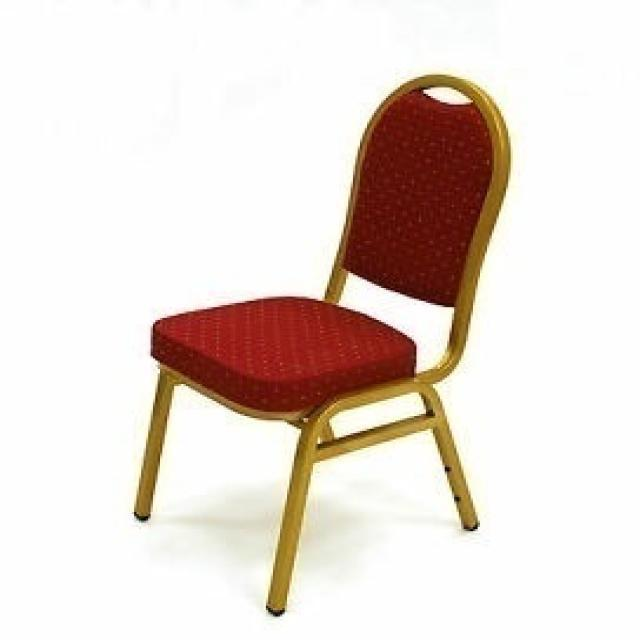chair: (130, 68, 518, 621)
